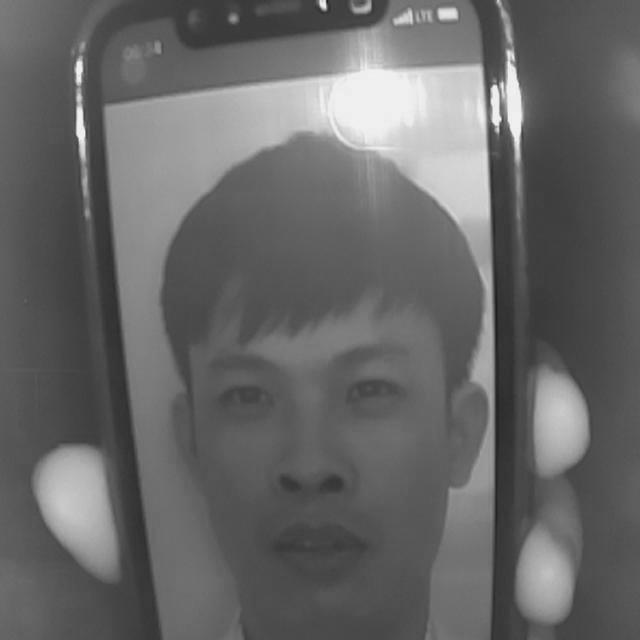fake: (77, 1, 534, 640)
